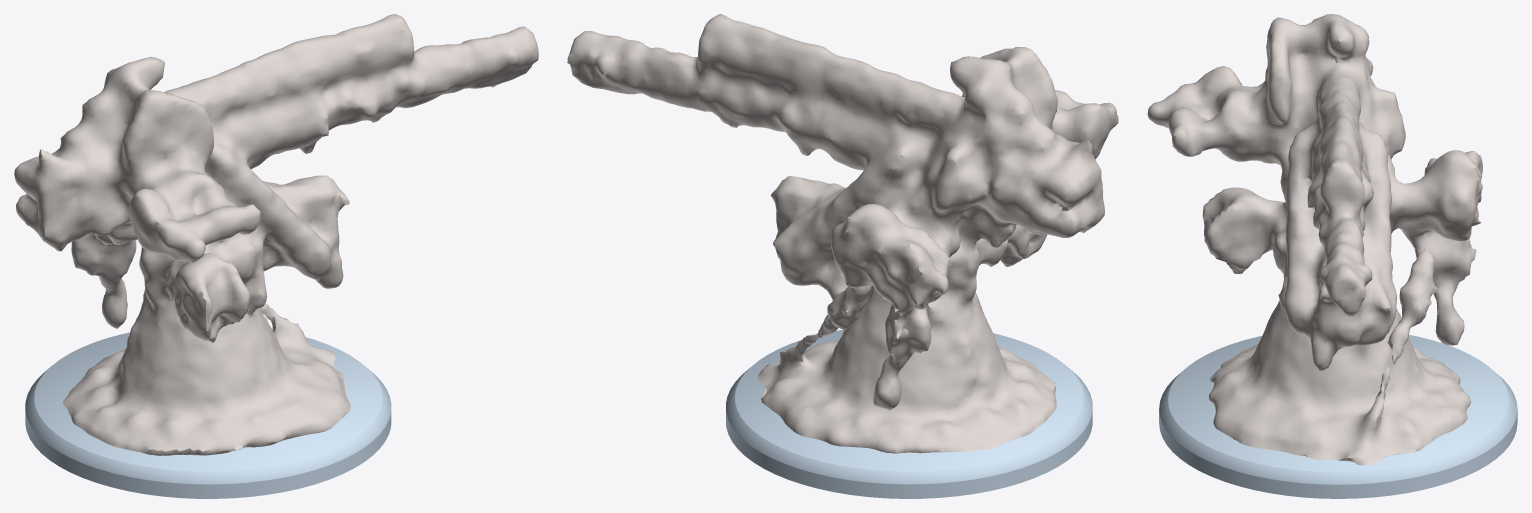
3 renders of one model, left to right at view 1: azimuth 30°, elevation 25°; view 2: azimuth 150°, elevation 25°; view 3: azimuth 270°, elevation 25°, orthographic. The views are drawn at different scales.
Visible parts, largest first — view 1: split_parent_0, Podium_0; view 2: split_parent_0, Podium_0; view 3: split_parent_0, Podium_0.
Boxes of the visible parts, x1,y1,x2,y2 form: split_parent_0: [14, 14, 538, 455]; Podium_0: [25, 332, 391, 498]; split_parent_0: [567, 14, 1118, 453]; Podium_0: [726, 330, 1092, 498]; split_parent_0: [1147, 14, 1482, 465]; Podium_0: [1159, 335, 1517, 498].
Size of the model in its own units: 1 by 0.7079 by 0.6416.
